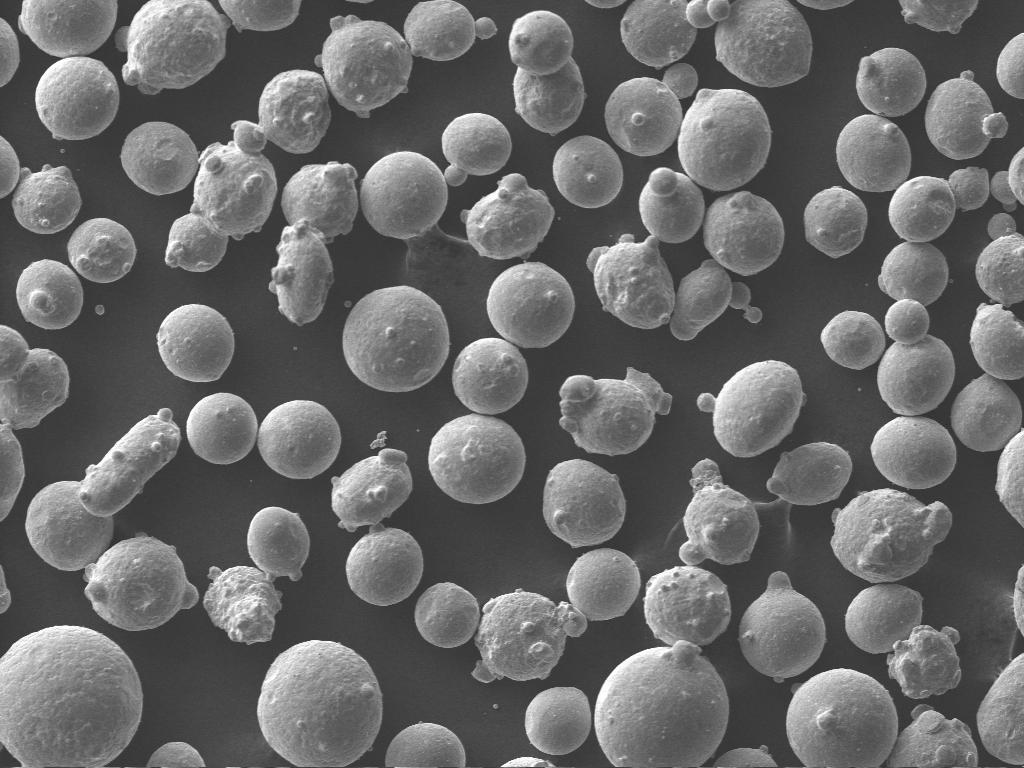Powder: (0, 626, 142, 766), (166, 120, 278, 272), (594, 640, 728, 766), (258, 640, 382, 766), (270, 162, 358, 325), (0, 326, 70, 519), (846, 584, 962, 697), (830, 488, 952, 583), (342, 286, 450, 392), (78, 408, 180, 516), (786, 668, 898, 766), (686, 0, 812, 87), (84, 534, 198, 630), (116, 0, 230, 94), (698, 360, 806, 458), (474, 590, 586, 682), (314, 14, 412, 118), (560, 368, 672, 455), (508, 10, 586, 134), (738, 572, 826, 681), (678, 88, 772, 190), (428, 414, 526, 504), (878, 300, 954, 415), (604, 64, 698, 155), (680, 460, 760, 565), (586, 234, 674, 327), (462, 174, 554, 260), (888, 166, 990, 242), (26, 482, 114, 570), (360, 152, 448, 239), (486, 262, 574, 348), (670, 260, 762, 340), (542, 460, 626, 547), (926, 70, 1008, 159), (644, 566, 732, 646), (36, 56, 120, 139), (332, 448, 412, 531), (704, 192, 784, 275), (258, 400, 342, 479), (346, 524, 424, 606), (870, 416, 956, 487), (204, 566, 282, 643), (836, 114, 912, 191), (258, 70, 328, 153), (158, 304, 232, 382), (404, 0, 498, 61), (452, 338, 528, 413), (120, 122, 198, 195), (950, 374, 1022, 452), (20, 0, 118, 57), (888, 706, 978, 768), (766, 442, 852, 505), (566, 548, 640, 620), (976, 654, 1024, 765), (976, 654, 1024, 764), (186, 392, 258, 464), (552, 136, 624, 208), (620, 0, 696, 67), (640, 168, 706, 242), (12, 164, 82, 233), (442, 116, 510, 186), (856, 48, 926, 116), (804, 186, 868, 258), (524, 688, 592, 755), (248, 506, 310, 579), (18, 262, 84, 330), (976, 212, 1024, 305), (414, 582, 480, 648), (878, 242, 946, 305), (970, 304, 1024, 380), (68, 220, 134, 281), (820, 310, 886, 370), (386, 722, 466, 767), (996, 430, 1024, 525), (900, 0, 977, 33), (220, 1, 302, 31), (990, 148, 1024, 210), (996, 34, 1024, 98), (146, 742, 206, 768), (0, 18, 20, 85), (714, 748, 776, 768), (0, 136, 20, 197), (1014, 566, 1024, 633), (502, 756, 554, 768), (0, 566, 12, 613), (798, 1, 852, 10), (586, 1, 626, 10), (370, 432, 386, 449)
